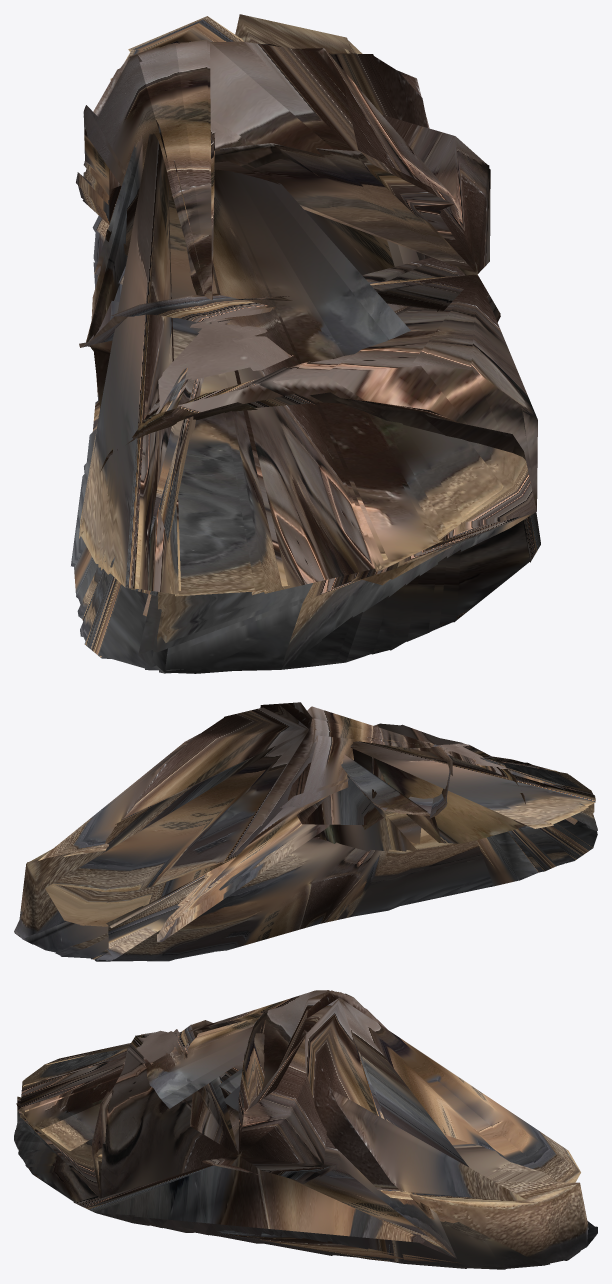
The model's file is sandalodecimated.fbx.
The picture shows the model from 3 angles, top to bottom: view 1: azimuth 30°, elevation 25°; view 2: azimuth 150°, elevation 25°; view 3: azimuth 270°, elevation 25°; orthographic projection. The views are drawn at different scales.
Parts seen in each view (by area): view 1: Model; view 2: Model; view 3: Model.
Boxes of the visible parts, x1,y1,x2,y2 form: Model: [71, 14, 540, 673]; Model: [14, 702, 597, 961]; Model: [14, 990, 597, 1269].
Bounding box in the file's own units: 158 × 87.36 × 223.
1 material, 1 textured.
